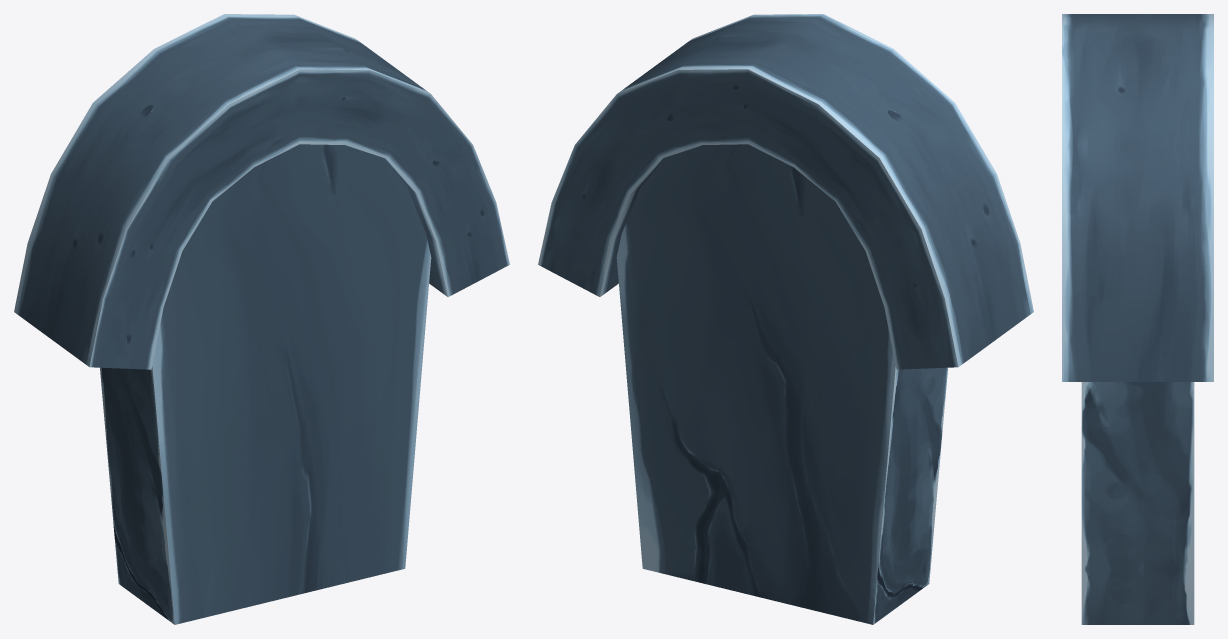
Rendered from SM_PROP_gravestone_v06_01.fbx.
The picture shows the model from 3 angles, left to right: view 1: azimuth 30°, elevation 25°; view 2: azimuth 150°, elevation 25°; view 3: azimuth 270°, elevation 25°; orthographic projection.
Parts seen in each view (by area): view 1: SM_PROP_gravestone_v06_01; view 2: SM_PROP_gravestone_v06_01; view 3: SM_PROP_gravestone_v06_01.
Boxes of the visible parts, x1,y1,x2,y2 form: SM_PROP_gravestone_v06_01: (14, 14, 509, 624); SM_PROP_gravestone_v06_01: (538, 14, 1033, 624); SM_PROP_gravestone_v06_01: (1062, 14, 1213, 624).
Bounding box in the file's own units: 140 × 171 × 43.69.
